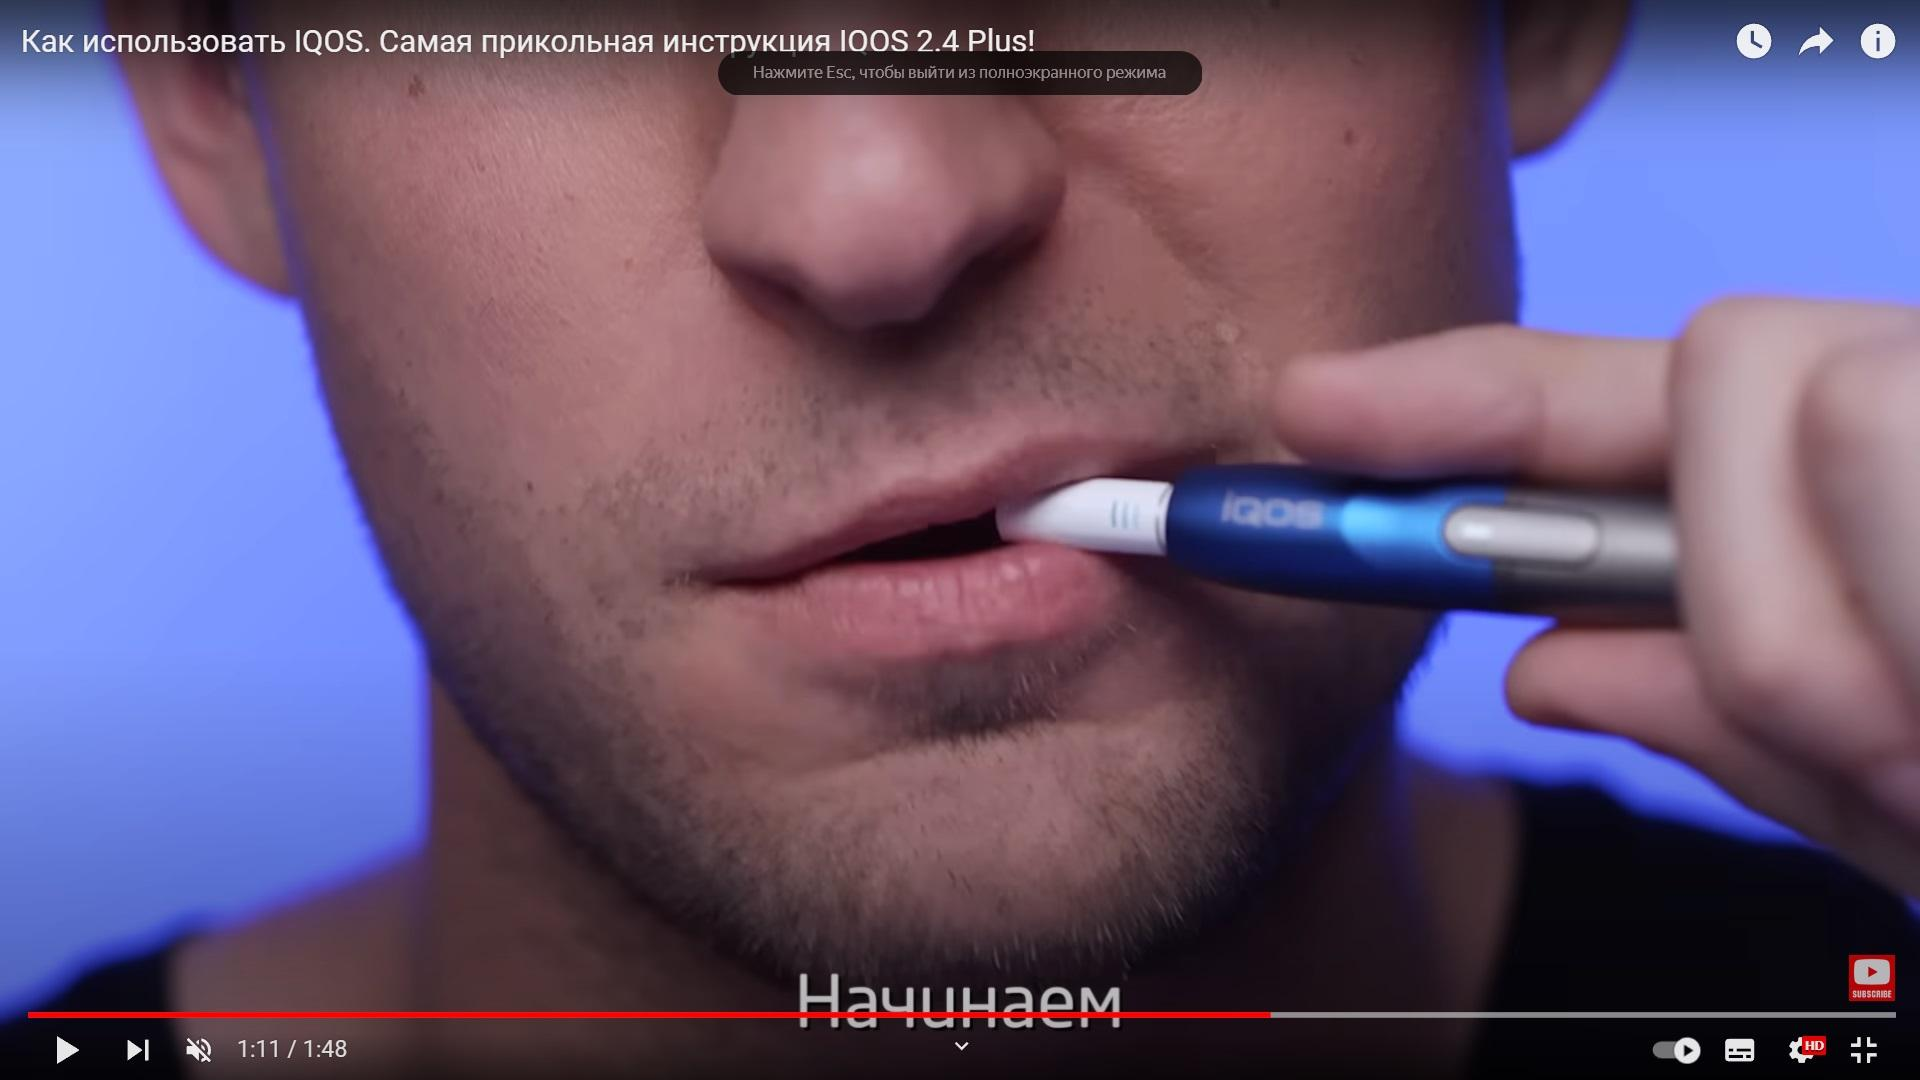iqos: (1000, 465, 1677, 622)
